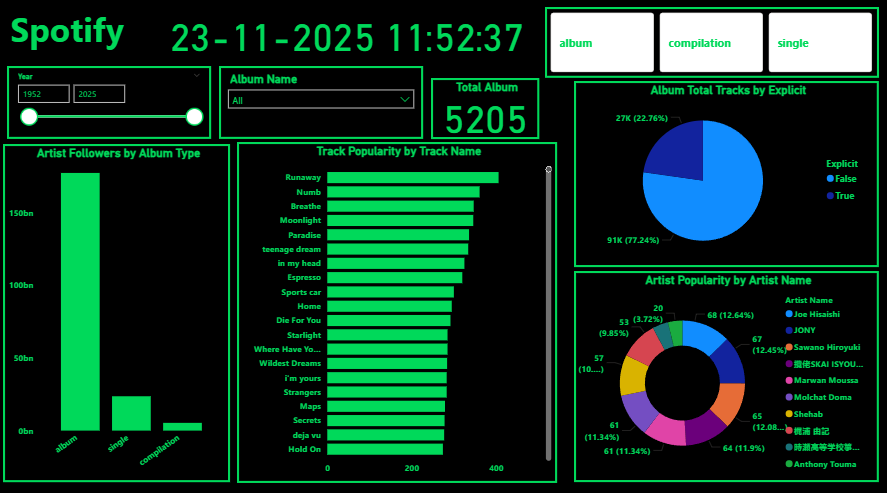

The page's visual inventory and layout, read from the dashboard file:
{"tool":"powerbi","page":{"name":"Page 1","canvas":[1280,720],"ordinal":0},"visuals":[{"type":"textbox","box":[10.1,11.8,178.1,80.6],"z":0},{"type":"card","fields":{"Values":["spotify_data clean (1).Date"]},"box":[213.1,18.7,571.7,73.4],"z":1},{"type":"advancedSlicerVisual","fields":{"Values":["spotify_data clean (1).album_type"]},"box":[784.8,18.7,481,102.2],"z":2},{"type":"slicer","fields":{"Values":["spotify_data clean (1).album_release_date.Variation.Date Hierarchy.Year"]},"box":[10.1,103.7,293.8,105.1],"z":3},{"type":"slicer","fields":{"Values":["spotify_data clean (1).album_name"]},"box":[315.4,103.7,293.8,105.1],"z":4},{"type":"card","title":"Total Album","fields":{"Values":["Count(spotify_data clean (1).album_id)"]},"box":[620.6,121,155.5,87.8],"z":5},{"type":"clusteredColumnChart","title":"Artist Followers by Album Type","fields":{"Category":["spotify_data clean (1).album_type"],"Y":["Sum(spotify_data clean (1).artist_followers)"]},"box":[4.3,216,326.9,486.7],"z":6},{"type":"donutChart","title":"Artist Popularity by Artist Name","fields":{"Y":["Sum(spotify_data clean (1).artist_popularity)"],"Category":["spotify_data clean (1).artist_name"]},"box":[826.6,398.9,439.2,303.8],"z":7},{"type":"pieChart","title":"Album Total Tracks by Explicit","fields":{"Category":["spotify_data clean (1).explicit"],"Y":["Sum(spotify_data clean (1).album_total_tracks)"]},"box":[826.6,125.3,439.2,267.8],"z":8},{"type":"clusteredBarChart","title":"Track Popularity by Track Name","fields":{"Category":["spotify_data clean (1).track_name"],"Y":["Sum(spotify_data clean (1).track_popularity)"]},"box":[341.3,213.1,460.8,491],"z":9}]}

Visuals, with their boxes in screenshot pixels (x1, y1, x2, y2), scaled from the page's 1280x720 canvas onto the 887x493 screenshot:
textbox: crop(7, 8, 130, 63)
card - spotify_data clean (1).Date: crop(148, 13, 544, 63)
advancedSlicerVisual - spotify_data clean (1).album_type: crop(544, 13, 877, 83)
slicer - spotify_data clean (1).album_release_date.Variation.Date Hierarchy.Year: crop(7, 71, 211, 143)
slicer - spotify_data clean (1).album_name: crop(219, 71, 422, 143)
"Total Album" card: crop(430, 83, 538, 143)
"Artist Followers by Album Type" clusteredColumnChart: crop(3, 148, 230, 481)
"Artist Popularity by Artist Name" donutChart: crop(573, 273, 877, 481)
"Album Total Tracks by Explicit" pieChart: crop(573, 86, 877, 269)
"Track Popularity by Track Name" clusteredBarChart: crop(237, 146, 556, 482)
